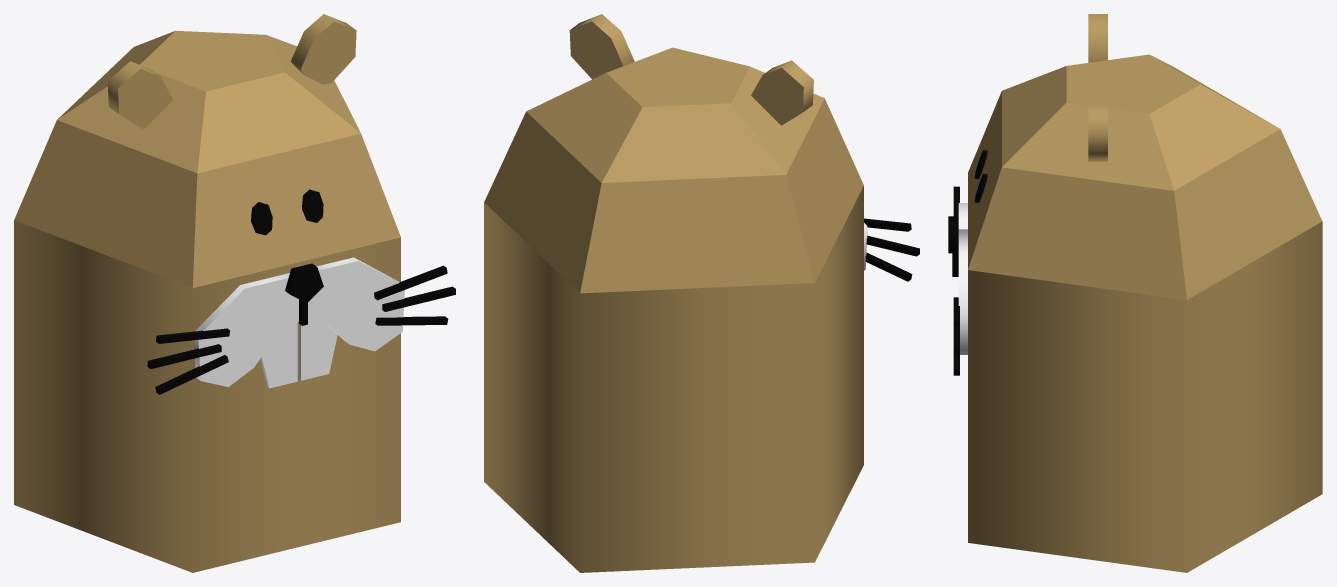
Rendered from mole.gltf.
3 renders of one model, left to right at view 1: azimuth 30°, elevation 25°; view 2: azimuth 150°, elevation 25°; view 3: azimuth 270°, elevation 25°, orthographic. The views are drawn at different scales.
Visible parts, largest first — view 1: Cone001, Cone004, Cone003, Cylinder006, Cylinder004, Box009, Box008, Cylinder001, Box002, Box004, Box003, Box006 (+4 smaller); view 2: Cone001, Cylinder006, Cylinder004; view 3: Cone001, Cone003, Cylinder006, Cylinder004.
Part boxes in pixels (<box>): Cone001: <box>14,30,400,572</box>; Cone004: <box>194,273,298,386</box>; Cone003: <box>308,257,404,351</box>; Cylinder006: <box>290,14,356,84</box>; Cylinder004: <box>107,61,173,128</box>; Box009: <box>298,321,337,380</box>; Box008: <box>260,322,297,388</box>; Cylinder001: <box>285,263,323,302</box>; Box002: <box>155,355,228,394</box>; Box004: <box>374,265,447,300</box>; Box003: <box>147,344,221,368</box>; Box006: <box>382,286,455,311</box>; Cone001: <box>484,47,863,572</box>; Cylinder006: <box>569,14,634,79</box>; Cylinder004: <box>751,60,813,125</box>; Cone001: <box>968,54,1322,572</box>; Cone003: <box>958,229,967,354</box>; Cylinder006: <box>1088,104,1107,161</box>; Cylinder004: <box>1088,14,1107,62</box>.
Bounding box in the file's own units: 18.72 × 24.19 × 18.78.
